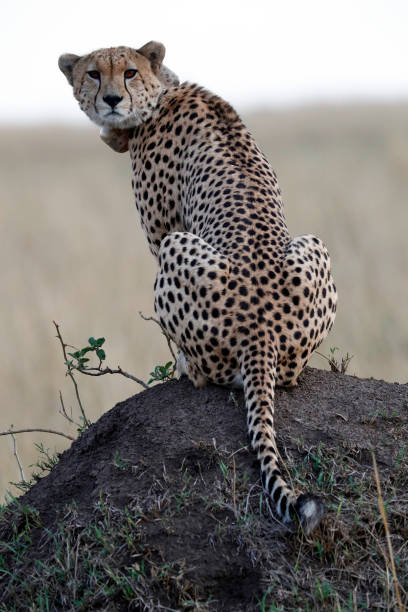cheetah: (48, 34, 176, 138)
